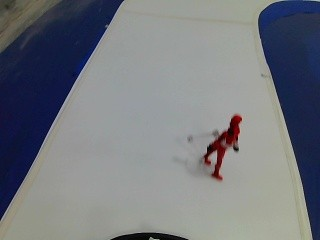pedestrian: (201, 111, 251, 184)
